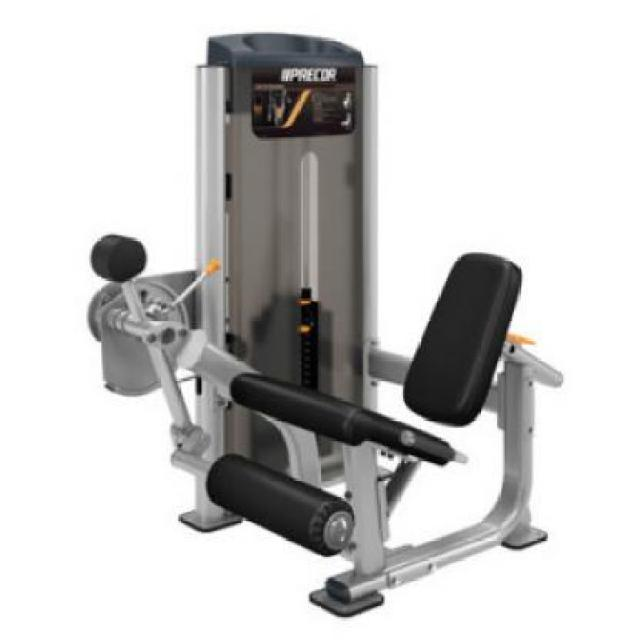leg extension: (69, 23, 568, 623)
